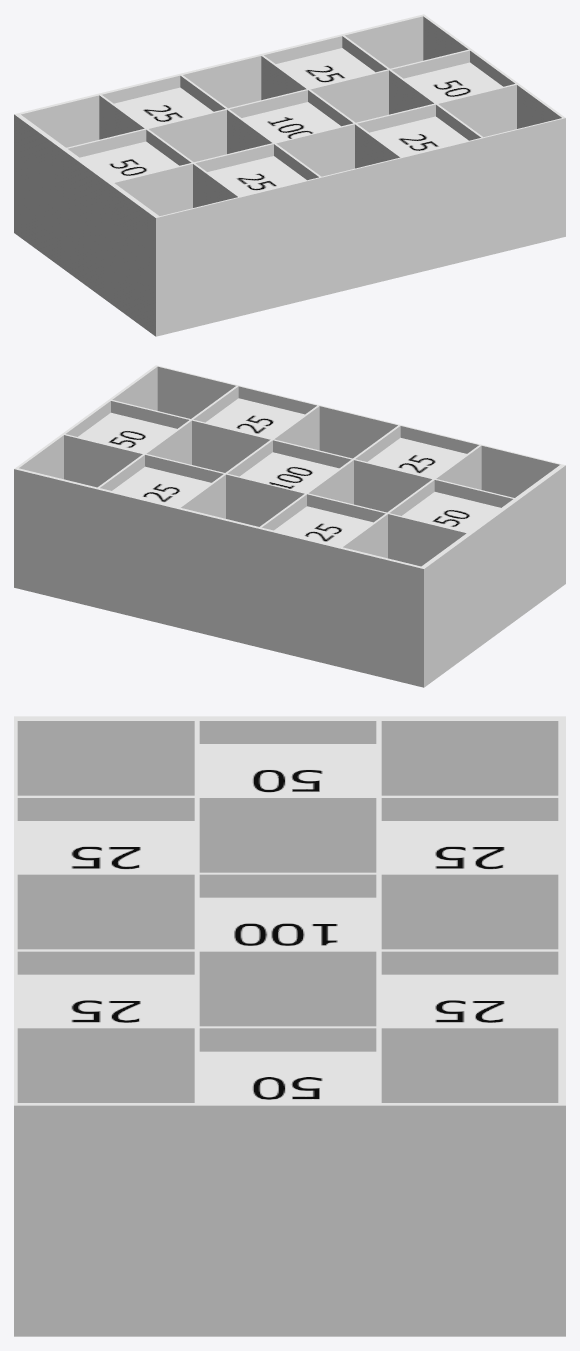
Rendered from scoreboard.FBX.
3 views of the same model, one above another, from view 1: azimuth 30°, elevation 25°; view 2: azimuth 150°, elevation 25°; view 3: azimuth 270°, elevation 25° (orthographic). The views are drawn at different scales.
Parts seen in each view (by area): view 1: Box001; view 2: Box001; view 3: Box001.
Part boxes in pixels (x1,y1,x2,y2): Box001: [14, 14, 565, 336]; Box001: [14, 365, 565, 687]; Box001: [14, 716, 565, 1336].
Size of the model in its own units: 362 by 100 by 217.
